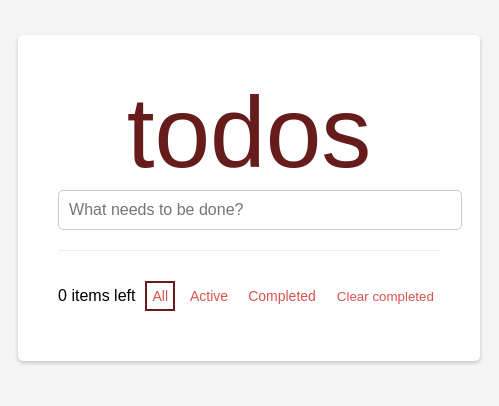
Test: TodoViews › allows adding a new todo
The image size is (499, 406).
Type "New Todo" into the field with placeholder "What needs to be done?" at (260, 210), box [58,190,462,230]
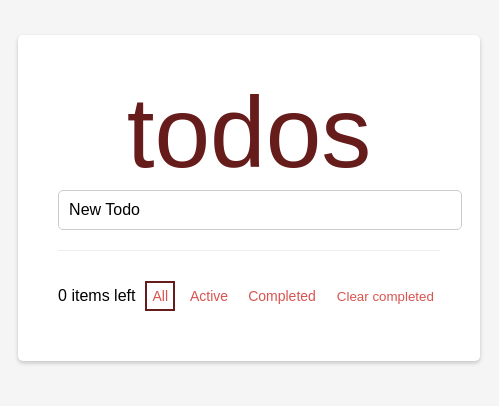
Submit the form with test id "todo-form", box [58,190,440,230]
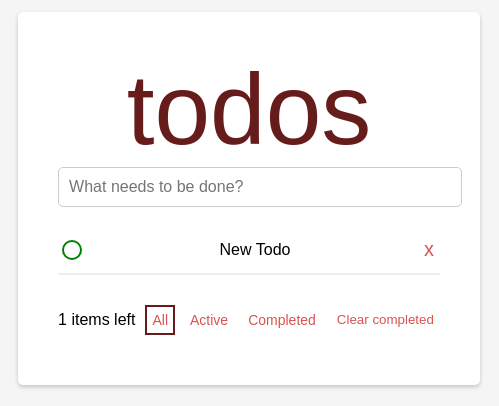
Now the text "New Todo" is shown, box [220,240,290,258]
